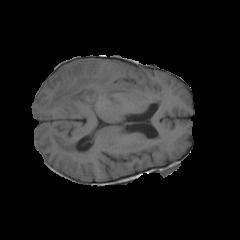glioma: (46, 61, 136, 115)
